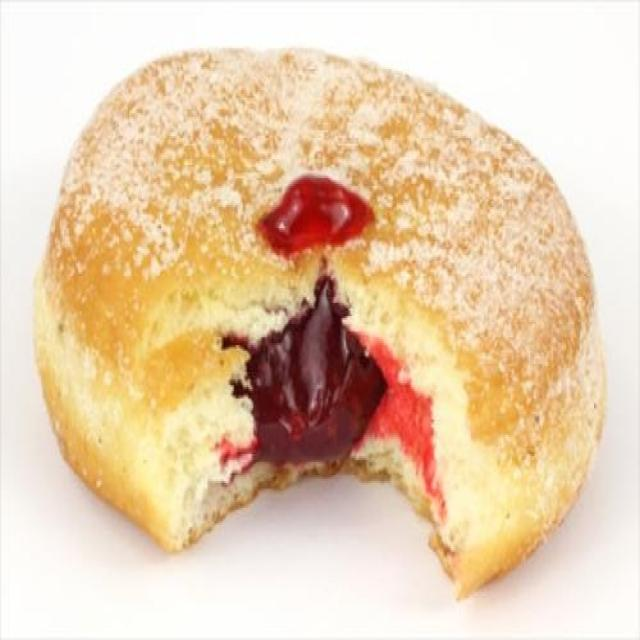炸货点心: (16, 48, 606, 594)
